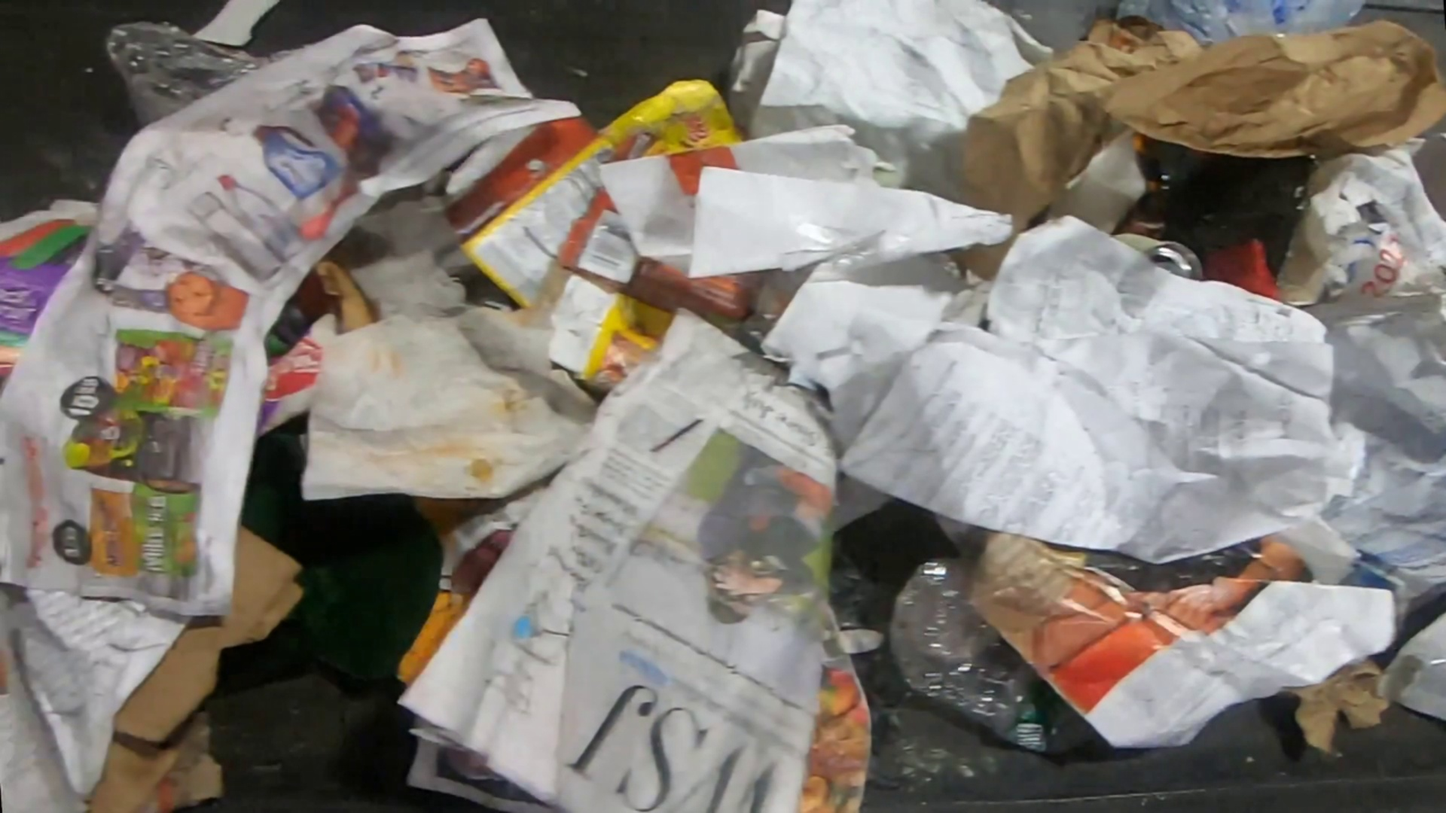cardboard: (439, 76, 796, 399), (75, 522, 309, 813), (0, 198, 108, 404), (1283, 649, 1401, 757)
metal: (1111, 232, 1204, 282)
plastic: (888, 557, 1096, 751), (98, 17, 288, 137)
